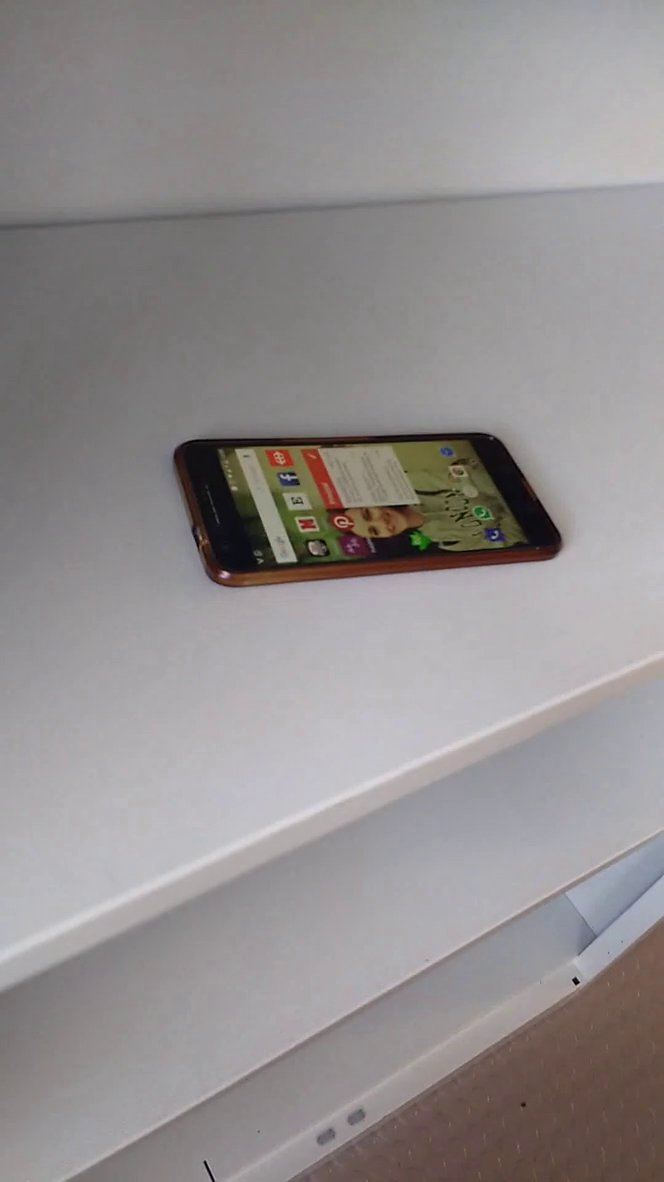phone: (158, 408, 585, 603)
